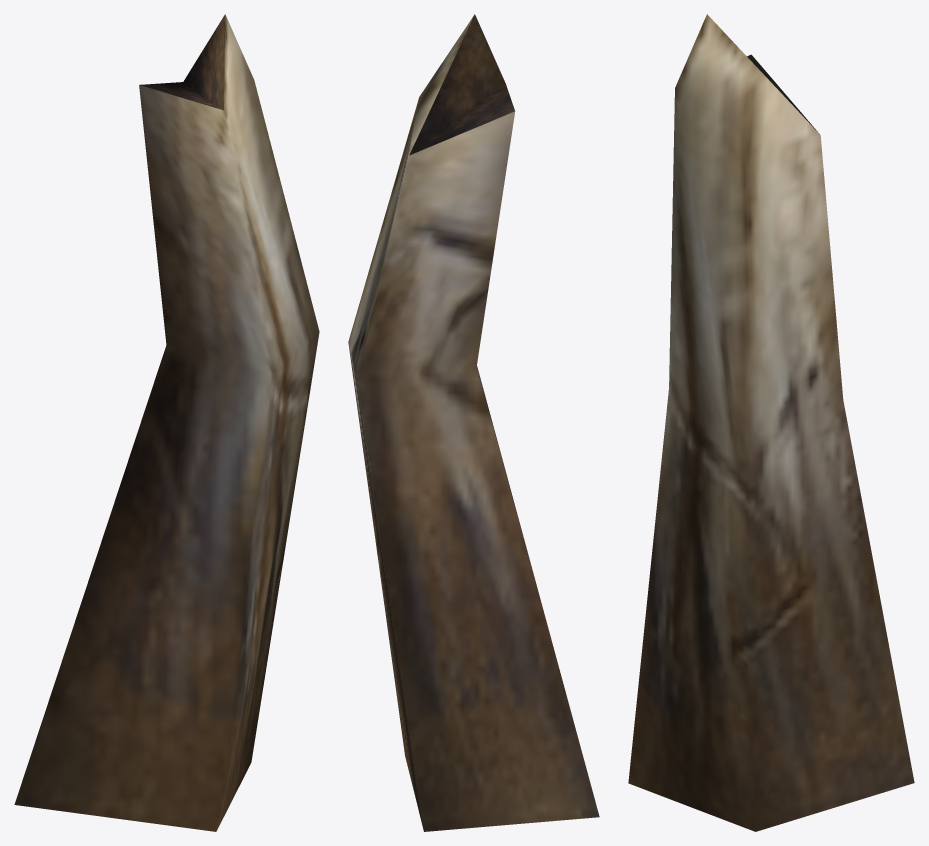
File: D_baigu005.fbx
3 views of the same model, side by side, from view 1: azimuth 30°, elevation 25°; view 2: azimuth 150°, elevation 25°; view 3: azimuth 270°, elevation 25° (orthographic). The views are drawn at different scales.
Visible parts, largest first — view 1: D_baigu005; view 2: D_baigu005; view 3: D_baigu005.
Boxes of the visible parts, bbox=[...] form: D_baigu005: bbox=[14, 14, 319, 831]; D_baigu005: bbox=[348, 14, 599, 831]; D_baigu005: bbox=[628, 14, 914, 831].
Bounding box in the file's own units: 88.51 × 231 × 75.43.
